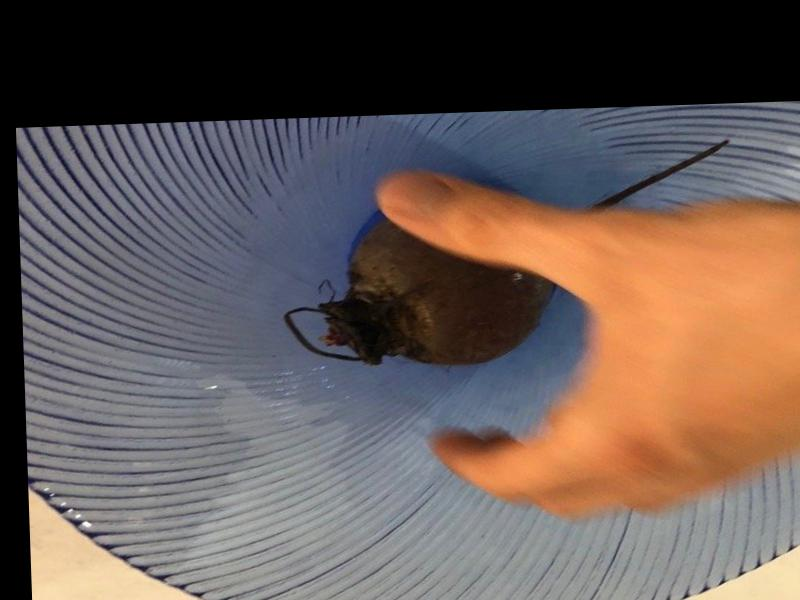Beet: (279, 140, 734, 372)
